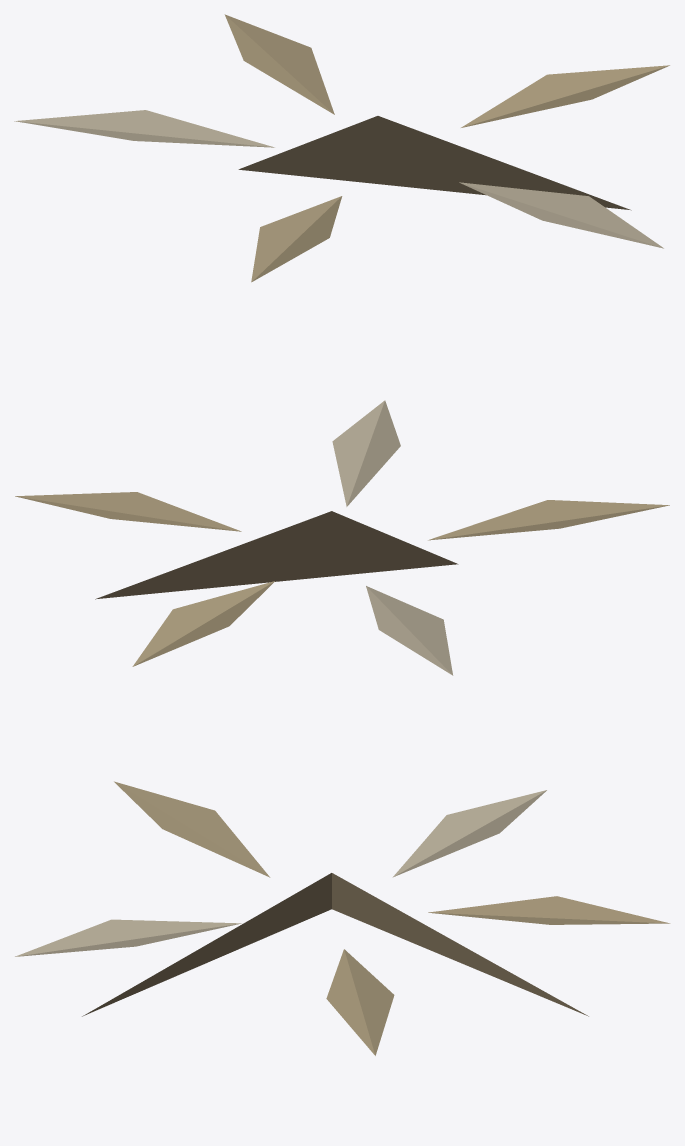
Rendered from shui.changpu@withered__bloom.glb.
3 renders of one model, top to bottom at view 1: azimuth 30°, elevation 25°; view 2: azimuth 150°, elevation 25°; view 3: azimuth 270°, elevation 25°, orthographic. The views are drawn at different scales.
Visible parts, largest first — view 1: shui.changpu@withered__bloom; view 2: shui.changpu@withered__bloom; view 3: shui.changpu@withered__bloom.
Boxes of the visible parts, box(x1,y1,x2,y2) form: shui.changpu@withered__bloom: box(14, 14, 669, 282); shui.changpu@withered__bloom: box(15, 400, 669, 675); shui.changpu@withered__bloom: box(15, 781, 670, 1055).
Size of the model in its own units: 0.3166 by 0.084 by 0.3459.
